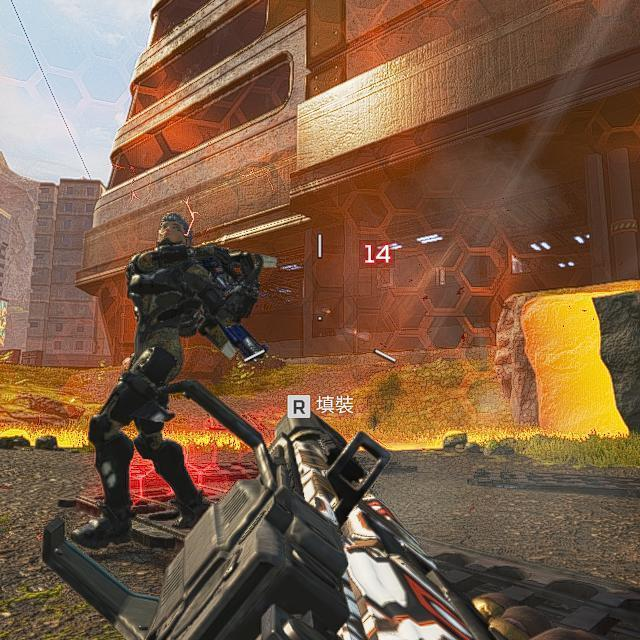avatar: (69, 211, 267, 550)
